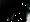person: (26, 6, 30, 22), (9, 12, 15, 21)
